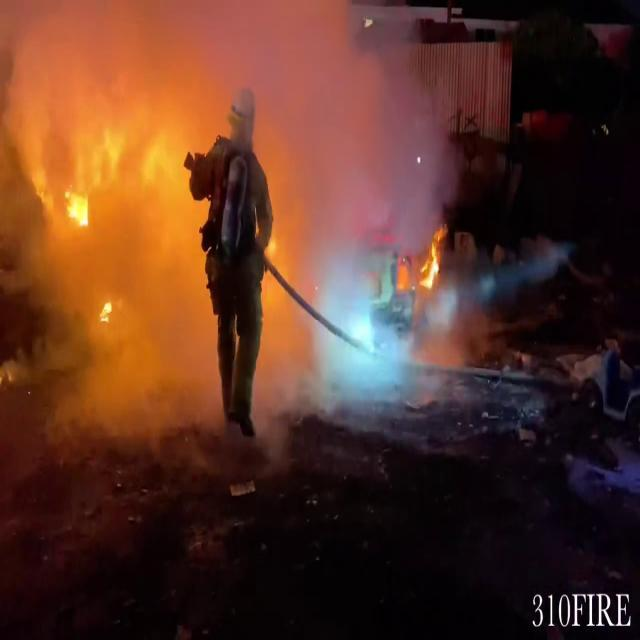Fire: (414, 222, 448, 292)
Smoke: (5, 0, 467, 439)
